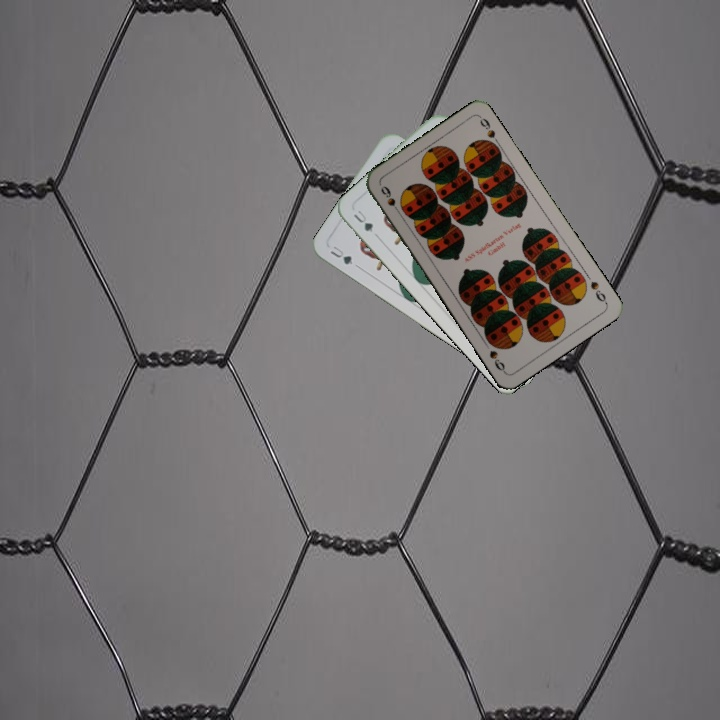GU: (349, 205, 376, 235), (326, 242, 357, 267)
S9: (376, 181, 404, 218), (586, 277, 610, 306)
